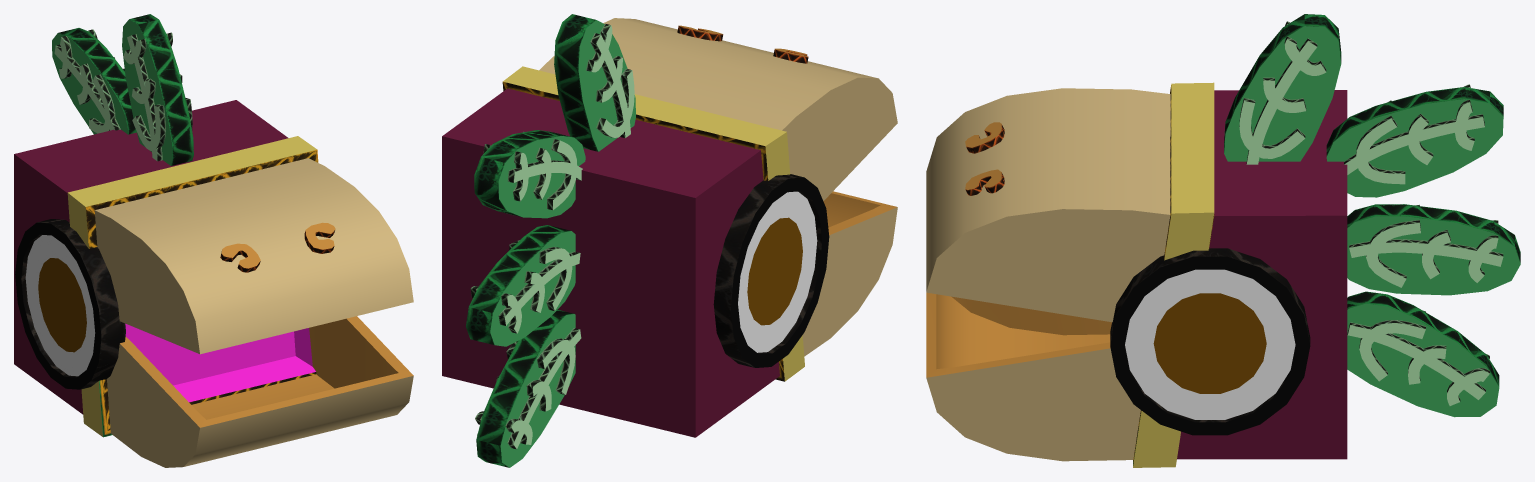
The model's file is Head test.FBX.
3 views of the same model, side by side, from view 1: azimuth 30°, elevation 25°; view 2: azimuth 150°, elevation 25°; view 3: azimuth 270°, elevation 25° (orthographic). The views are drawn at different scales.
Parts seen in each view (by area): view 1: Beak top001, Head001, Beak bottom001, Eye001, Feather, Feather008; view 2: Head001, Beak top001, Eye001, Feather010, Feather009, Feather, Beak bottom001, Feather008; view 3: Beak top001, Head001, Eye001, Beak bottom001, Feather009, Feather008, Feather010, Feather.
Part boxes in pixels (x1,y1,x2,y2): Beak top001: (94, 158, 413, 354); Head001: (14, 100, 318, 437); Beak bottom001: (107, 316, 413, 467); Eye001: (15, 219, 125, 389); Feather: (122, 14, 193, 165); Feather008: (52, 28, 136, 134); Head001: (442, 66, 804, 437); Beak top001: (539, 18, 897, 200); Eye001: (713, 174, 829, 367); Feather010: (475, 309, 581, 467); Feather009: (466, 225, 580, 346); Feather: (554, 14, 635, 151); Beak bottom001: (802, 191, 897, 356); Feather008: (474, 130, 585, 218); Beak top001: (926, 88, 1170, 322); Head001: (1133, 82, 1347, 467); Eye001: (1110, 248, 1310, 435); Beak bottom001: (926, 292, 1140, 461); Feather009: (1347, 204, 1520, 295); Feather008: (1326, 84, 1503, 197); Feather010: (1347, 291, 1499, 417); Feather: (1224, 14, 1341, 164).
Bounding box in the file's own units: 118 × 208 × 151.
